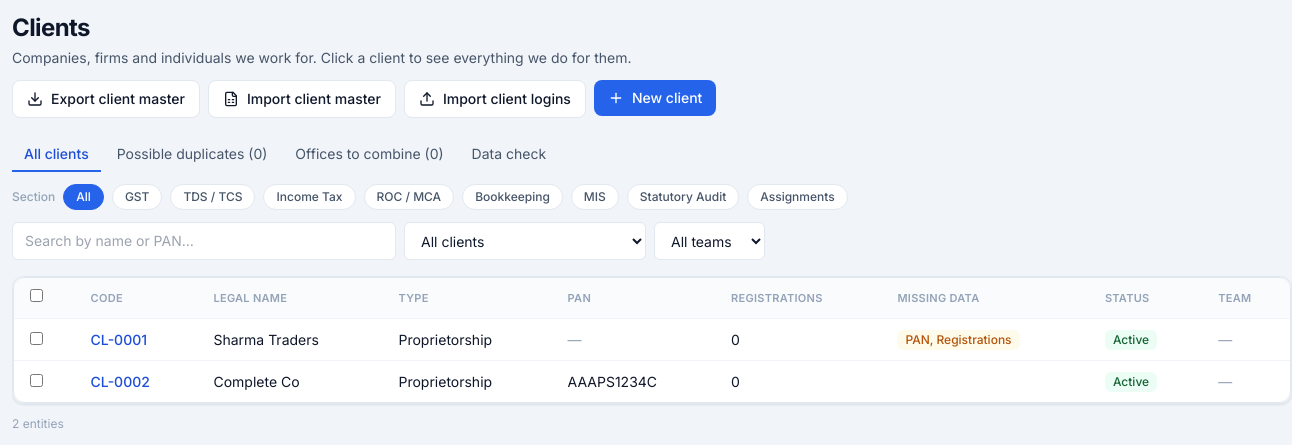
Scenario: Clients list › marks incomplete clients and filters by a missing item
Expected: the text "PAN, Registrations" is shown, [897,330,1020,350]
Expected: the number of elements named "Missing: " is 1, [897,330,1020,347]
Step 1. Select "Missing PAN" in the dropdown named "Missing data" → (525, 241), box [404,222,646,260]
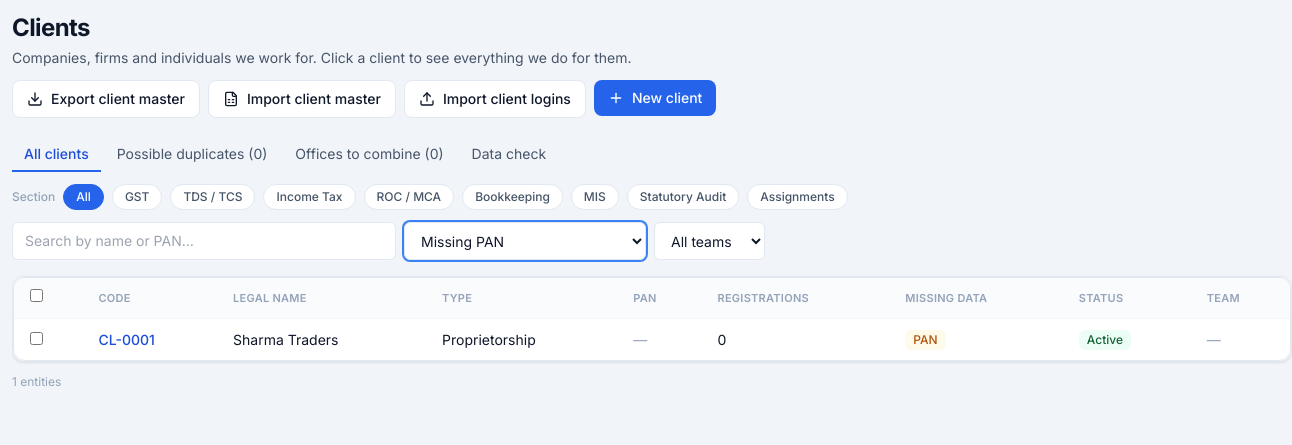
Expected: the element named "Missing: PAN not recorded" reads "PAN", [913,332,938,347]
